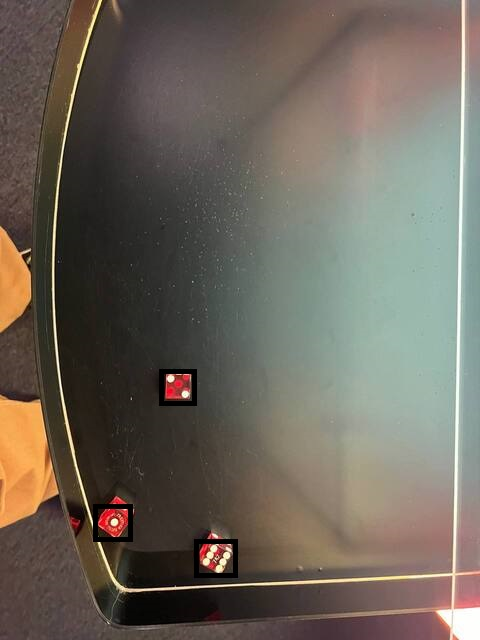one: (95, 506, 130, 539)
six: (196, 541, 235, 575)
two: (161, 371, 194, 403)
